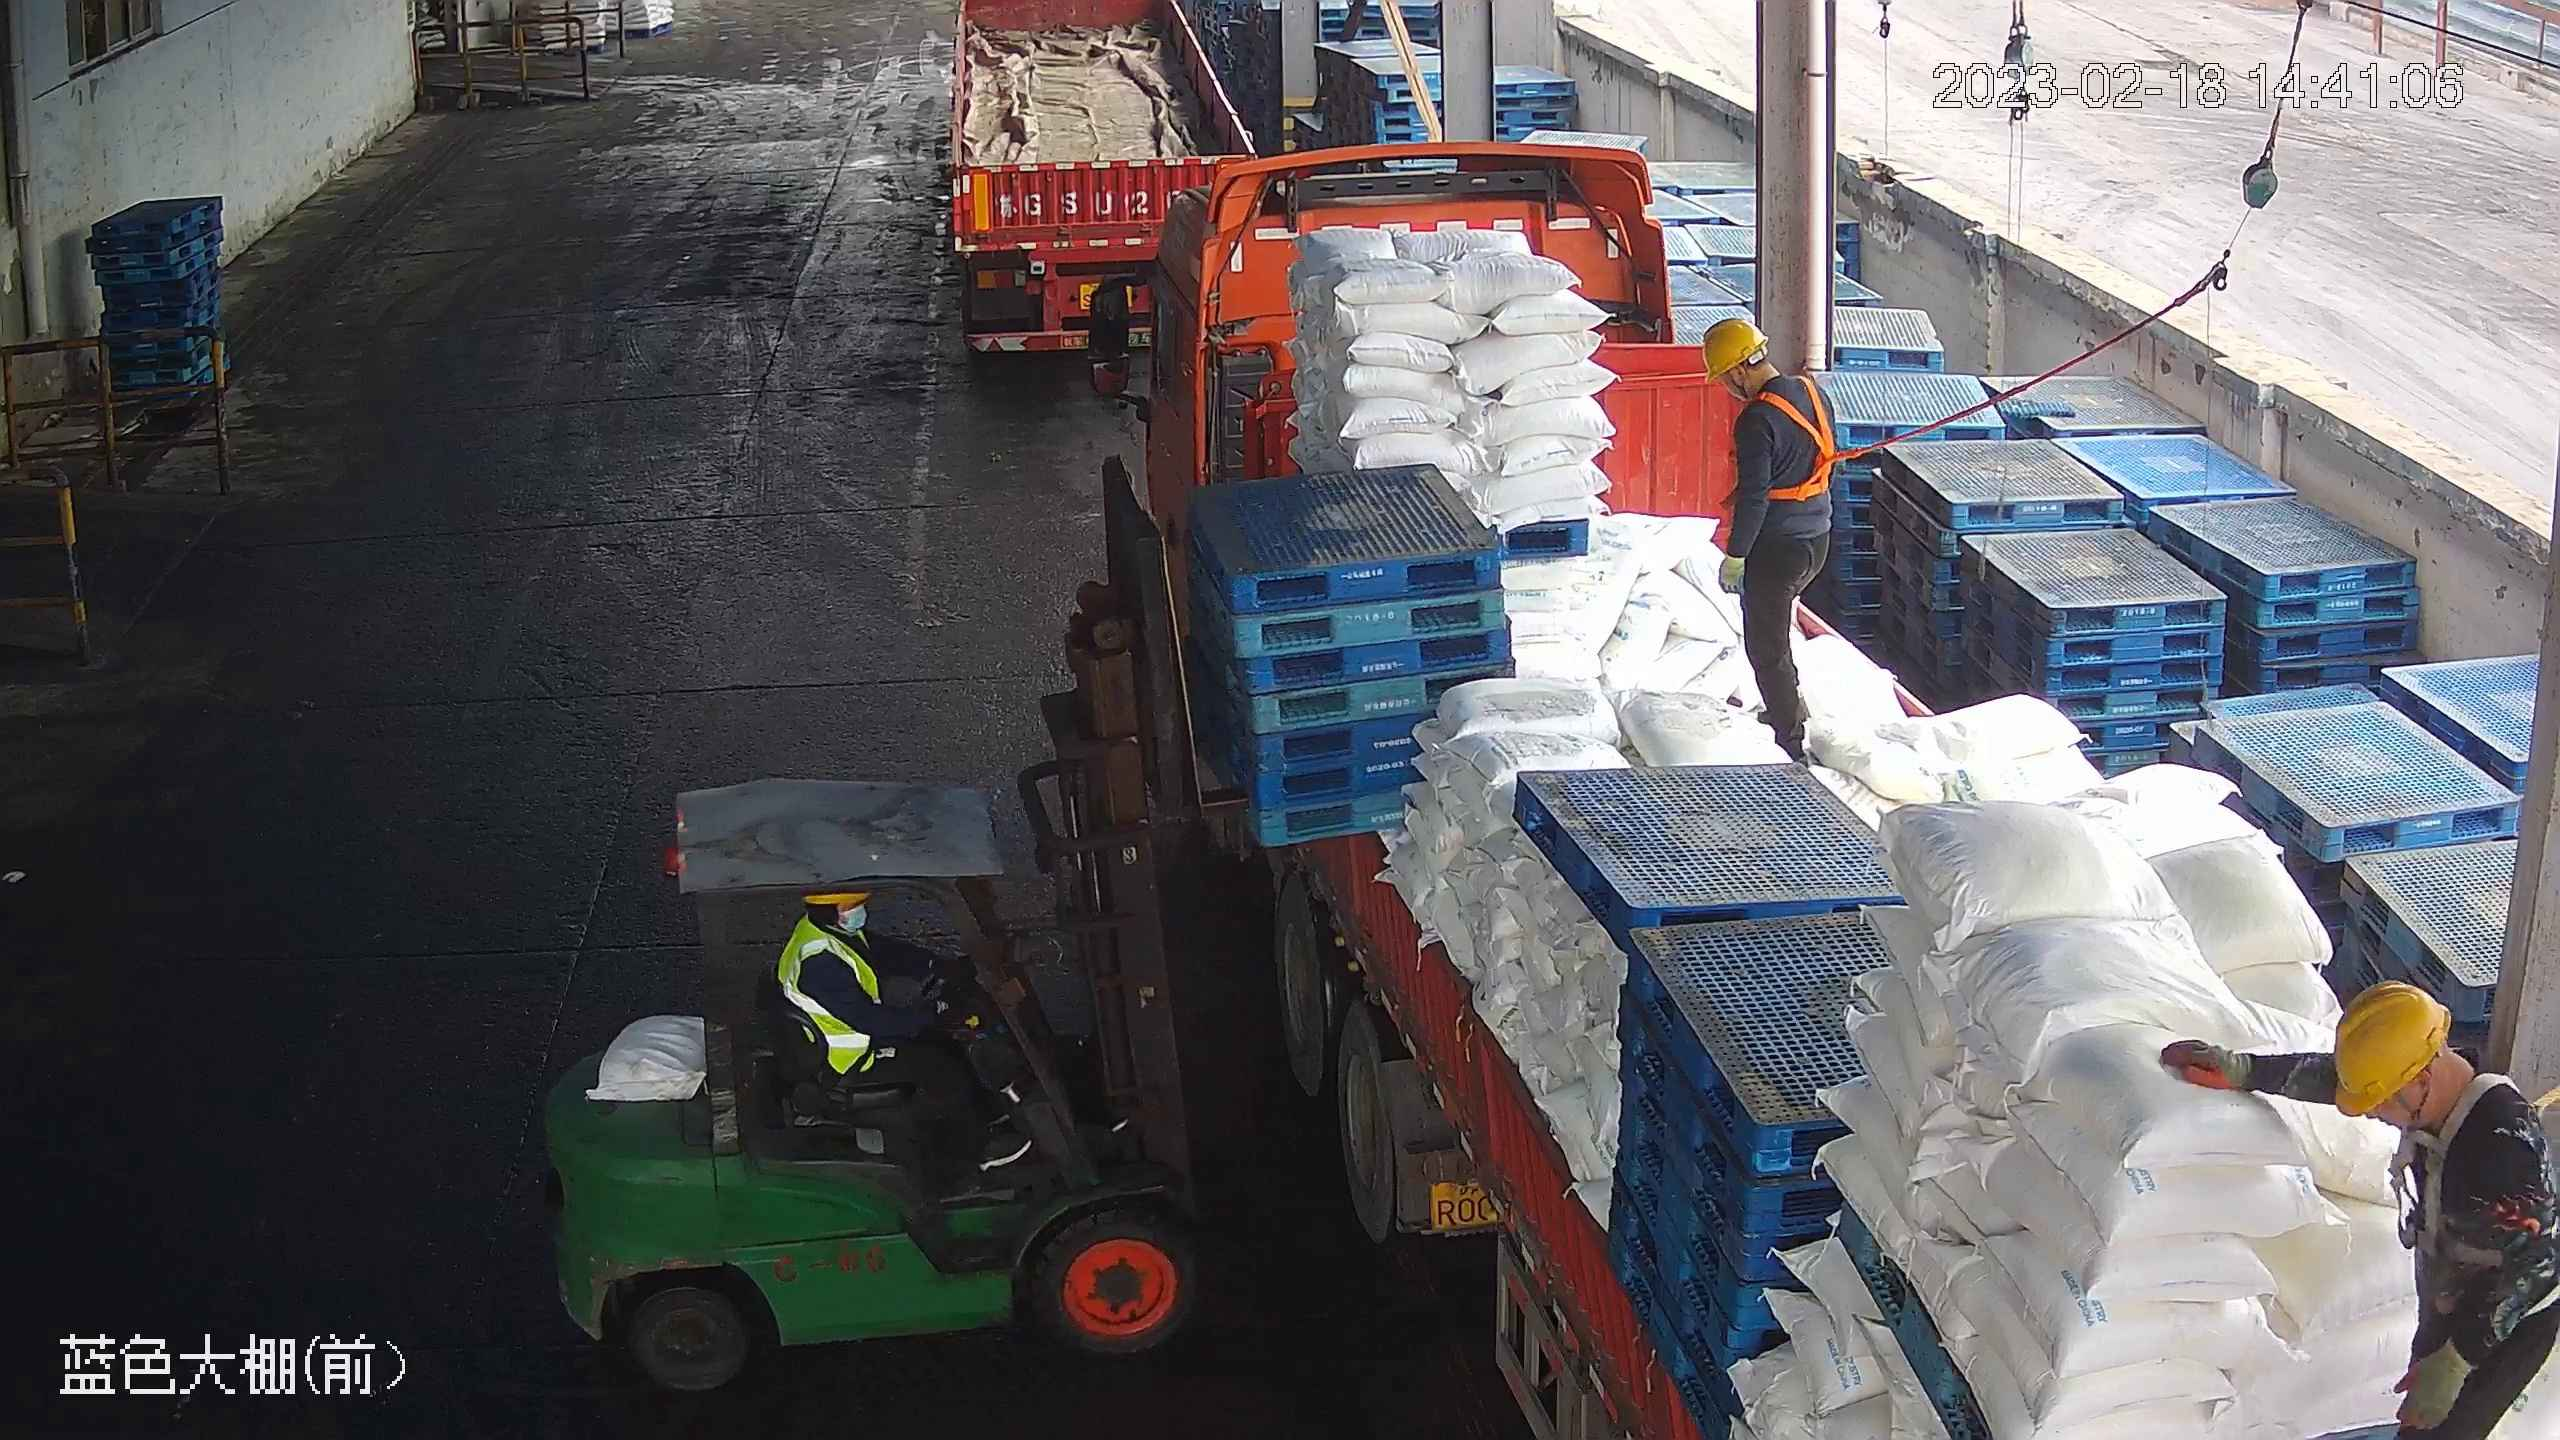belt: (2403, 1070, 2555, 1242), (1748, 375, 1857, 505)
head: (2331, 980, 2543, 1209), (1698, 318, 1843, 445), (786, 888, 874, 979)
helmet: (2328, 979, 2454, 1115), (1697, 315, 1768, 380)
people: (2159, 980, 2560, 1440), (778, 883, 1023, 1160), (1699, 316, 1840, 762)
truck: (1088, 144, 2560, 1440), (929, 1, 1272, 353)
